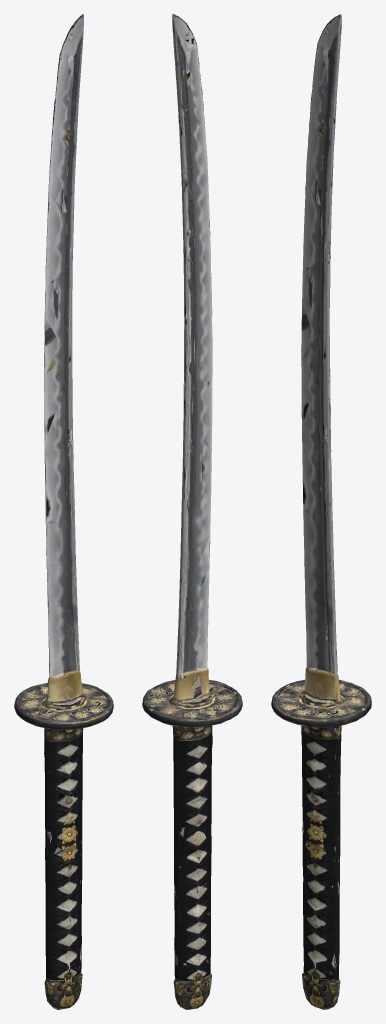
File: weapon_japan_katana_lod1.glb
3 views of the same model, side by side, from view 1: azimuth 30°, elevation 25°; view 2: azimuth 210°, elevation 25°; view 3: azimuth 330°, elevation 25° (orthographic).
Size of the model in its own units: 0.0903 by 0.9997 by 0.0909.
Materials: 1 (1 with a texture image).
